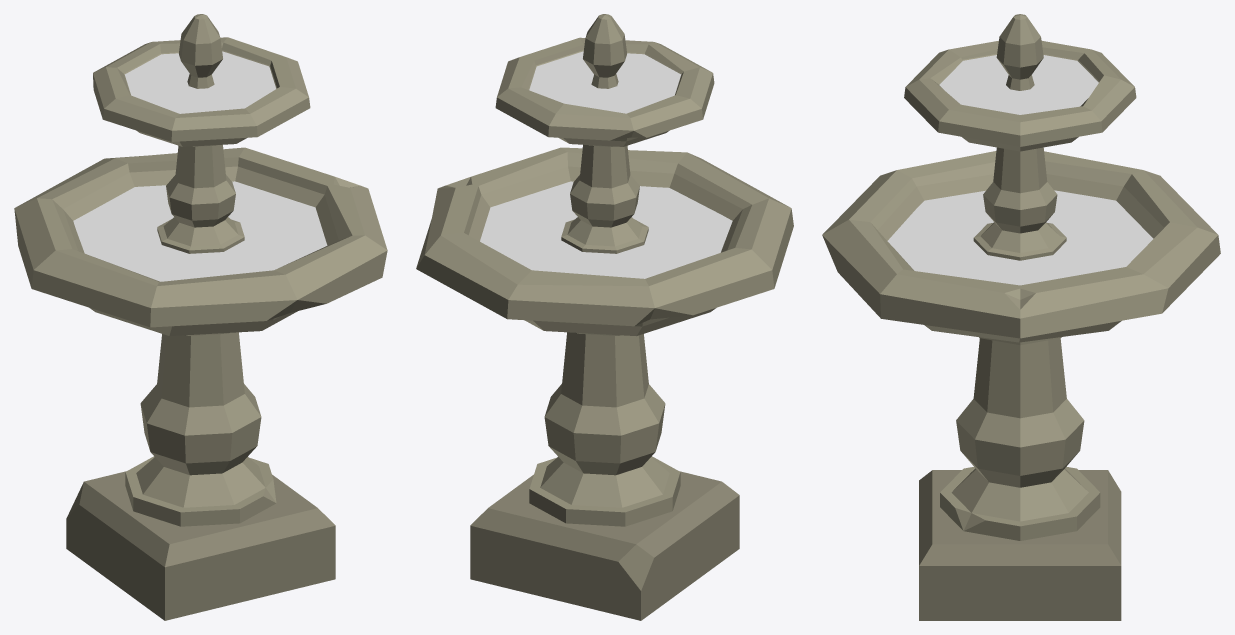
The model's file is Fountain_2.fbx.
The picture shows the model from 3 angles, left to right: view 1: azimuth 30°, elevation 25°; view 2: azimuth 150°, elevation 25°; view 3: azimuth 270°, elevation 25°; orthographic projection. The views are drawn at different scales.
Visible parts, largest first — view 1: Fountain_2, Fountain_2_Water; view 2: Fountain_2, Fountain_2_Water; view 3: Fountain_2, Fountain_2_Water.
Boxes of the visible parts, x1=… form: Fountain_2: x1=14, y1=14, x2=387, y2=620; Fountain_2_Water: x1=73, y1=51, x2=327, y2=281; Fountain_2: x1=416, y1=14, x2=793, y2=620; Fountain_2_Water: x1=480, y1=51, x2=732, y2=278; Fountain_2: x1=822, y1=14, x2=1220, y2=620; Fountain_2_Water: x1=887, y1=55, x2=1153, y2=285.
Bounding box in the file's own units: 126 × 196 × 126.
